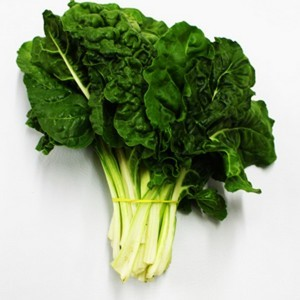spinach_brain food: (30, 21, 243, 168)
